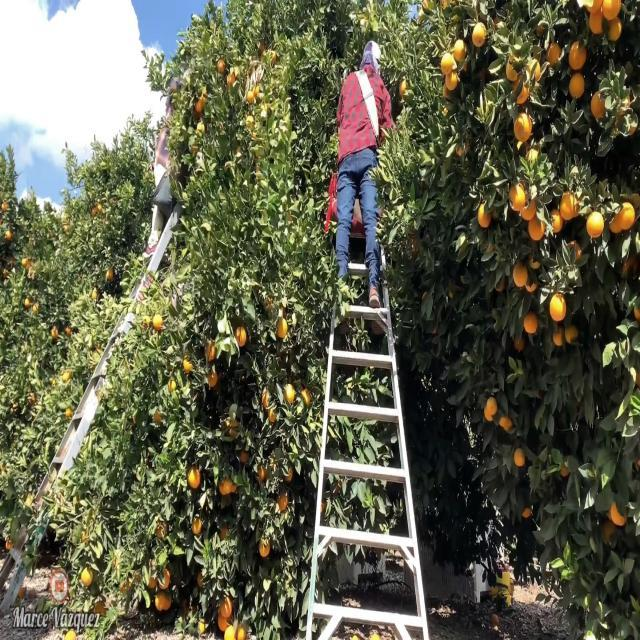Jeruk Sudah Matang: (585, 206, 604, 251), (512, 112, 534, 146), (590, 88, 608, 122), (521, 311, 539, 344), (512, 260, 530, 292), (567, 40, 587, 68), (606, 203, 624, 233), (567, 71, 586, 99), (620, 200, 636, 233), (549, 293, 565, 325), (610, 496, 626, 528), (509, 184, 525, 214), (527, 50, 543, 80), (606, 16, 622, 46), (156, 564, 172, 593), (478, 199, 493, 229), (470, 24, 488, 48), (453, 36, 468, 64), (588, 10, 604, 36), (546, 42, 562, 67), (275, 316, 291, 341), (506, 54, 520, 82), (217, 473, 232, 499), (566, 322, 580, 349), (187, 464, 202, 489), (440, 50, 454, 76), (602, 0, 622, 18), (78, 566, 94, 588), (155, 592, 170, 614), (204, 338, 218, 361), (514, 446, 526, 472), (220, 594, 233, 618), (501, 412, 514, 436), (234, 325, 248, 347), (486, 393, 498, 418), (444, 72, 459, 92), (207, 368, 220, 390), (258, 536, 270, 559), (284, 382, 295, 407), (284, 461, 296, 482), (276, 493, 288, 512), (553, 330, 564, 349), (216, 54, 227, 72)
